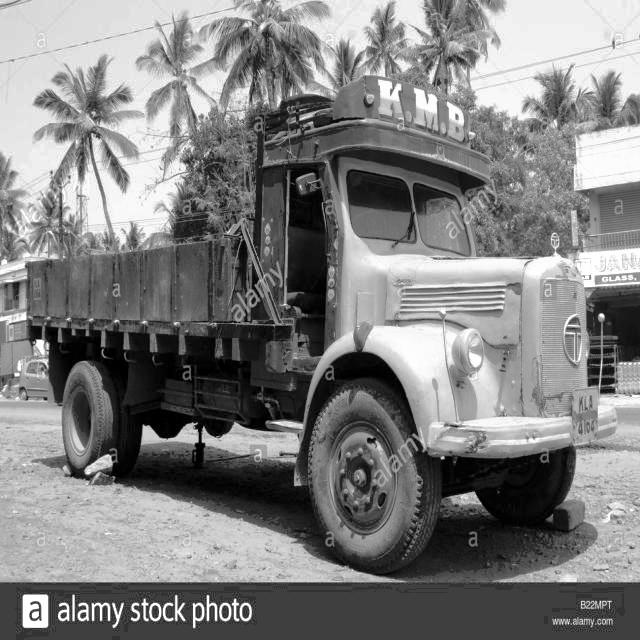HCV: (18, 55, 624, 573)
